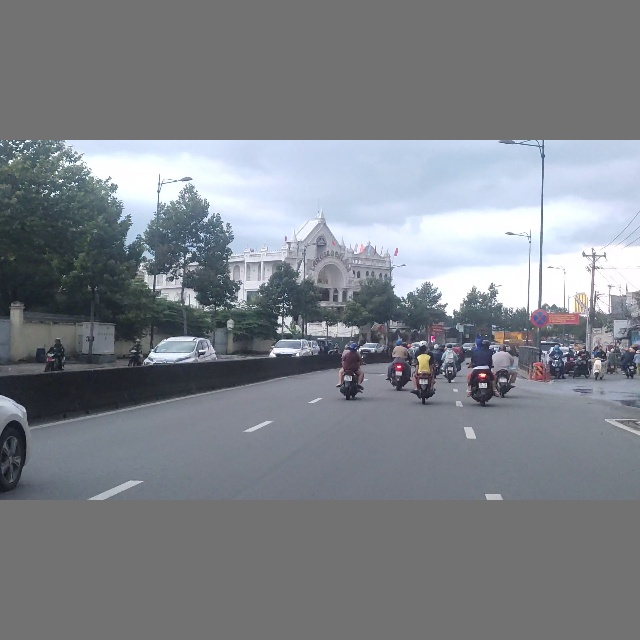P.130: (531, 309, 548, 326)
